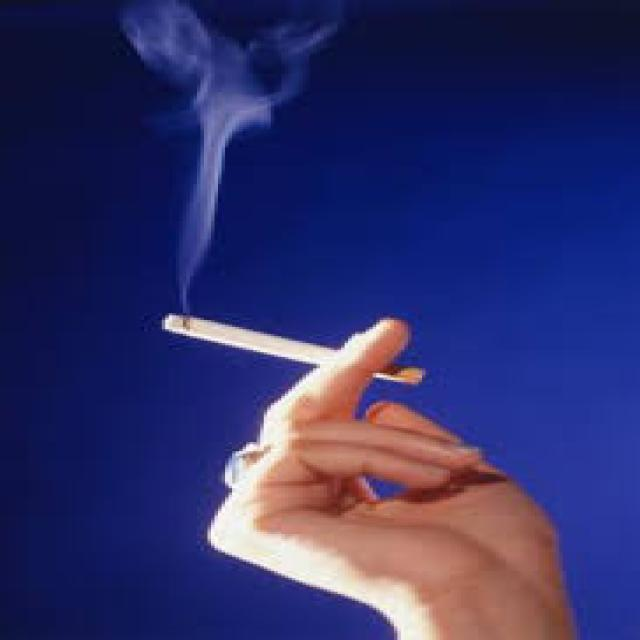rokok: (152, 301, 428, 403)
